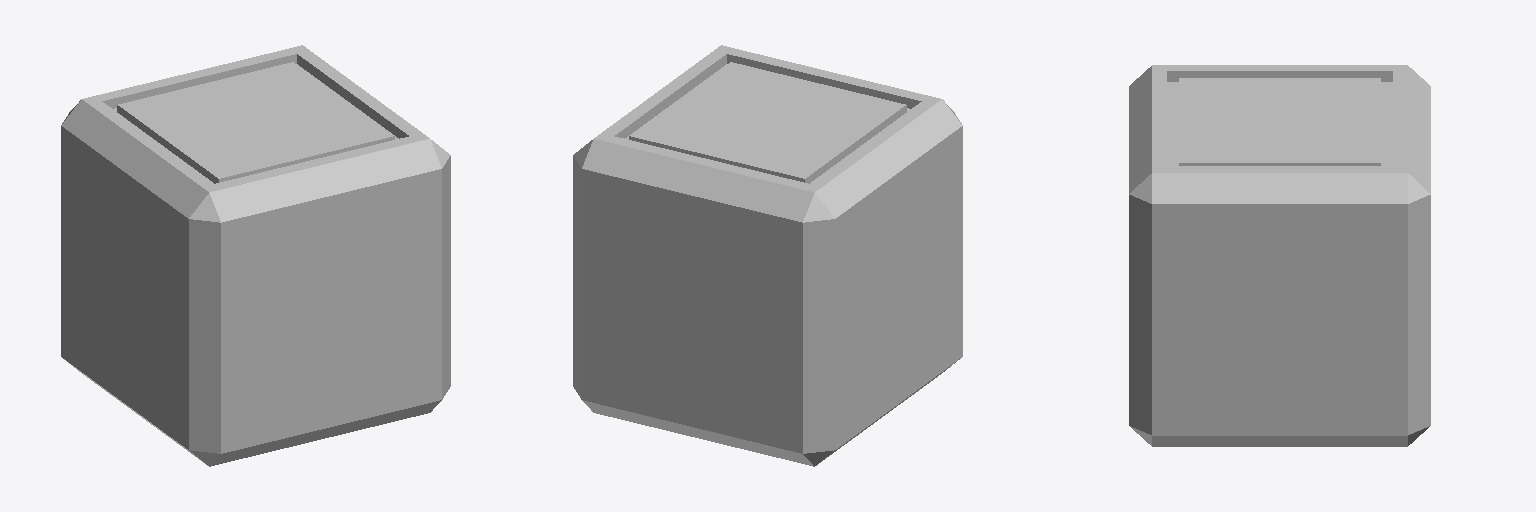
Rendered from block.obj.
3 renders of one model, left to right at view 1: azimuth 30°, elevation 25°; view 2: azimuth 150°, elevation 25°; view 3: azimuth 270°, elevation 25°, orthographic.
Visible parts, largest first — view 1: Cube; view 2: Cube; view 3: Cube.
Part boxes in pixels (x1,y1,x2,y2): Cube: (61,45,450,466); Cube: (573,45,962,466); Cube: (1129,65,1430,446).
Size of the model in its own units: 2 by 2 by 2.